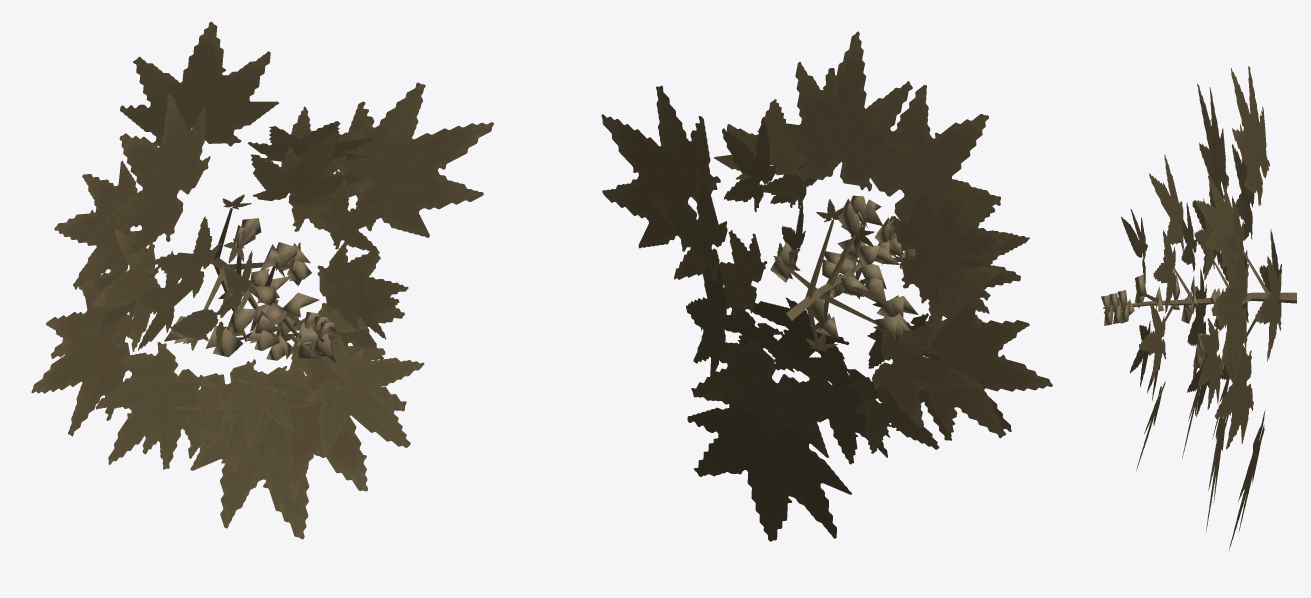
Rendered from p_male_hybrid_ripe_c4_cards.obj.
3 views of the same model, side by side, from view 1: azimuth 30°, elevation 25°; view 2: azimuth 150°, elevation 25°; view 3: azimuth 270°, elevation 25° (orthographic). The views are drawn at different scales.
Size of the model in its own units: 1.47 by 1.59 by 0.581.
1 material, 1 textured.
